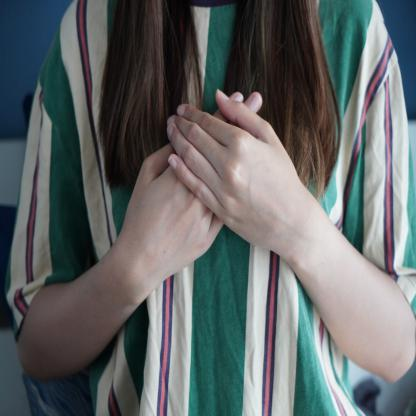Grieve: (103, 84, 347, 308)
